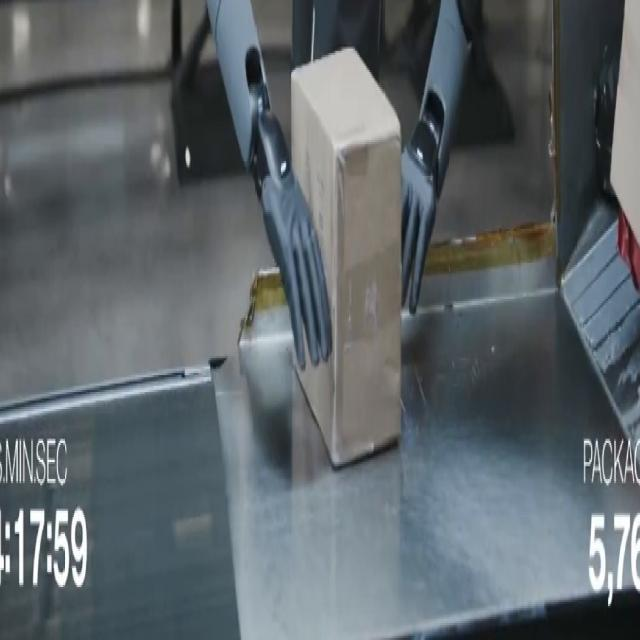package: (292, 49, 401, 468), (611, 3, 639, 237)
